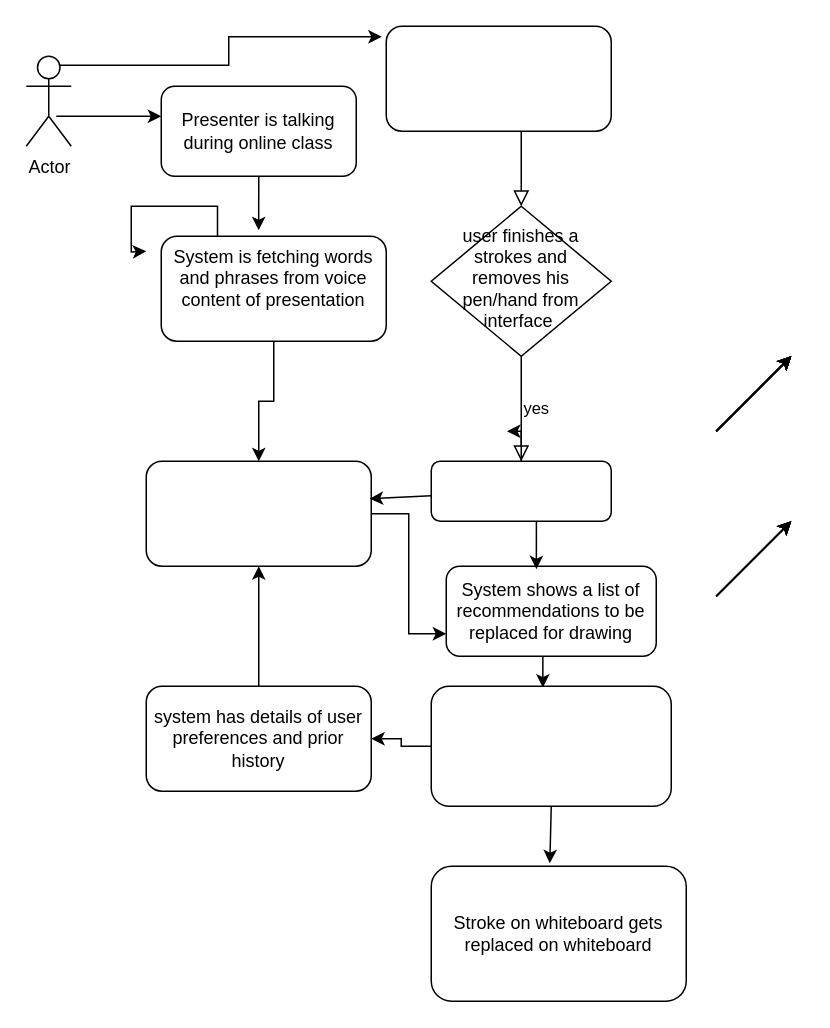
Image size: 830x1028. Some labels were removed from this diagram. The centre of each missing label's shape, as x and y in pixels:
"Pass strokes details to recommender system" goes at point 520,490.
"Presenter is using hand or tool to draw on whiteboard interface of his device" goes at point 498,78.
"Presenter selects a drawing object from recommendation" goes at point 550,745.
"Recommender system" goes at point 258,513.
